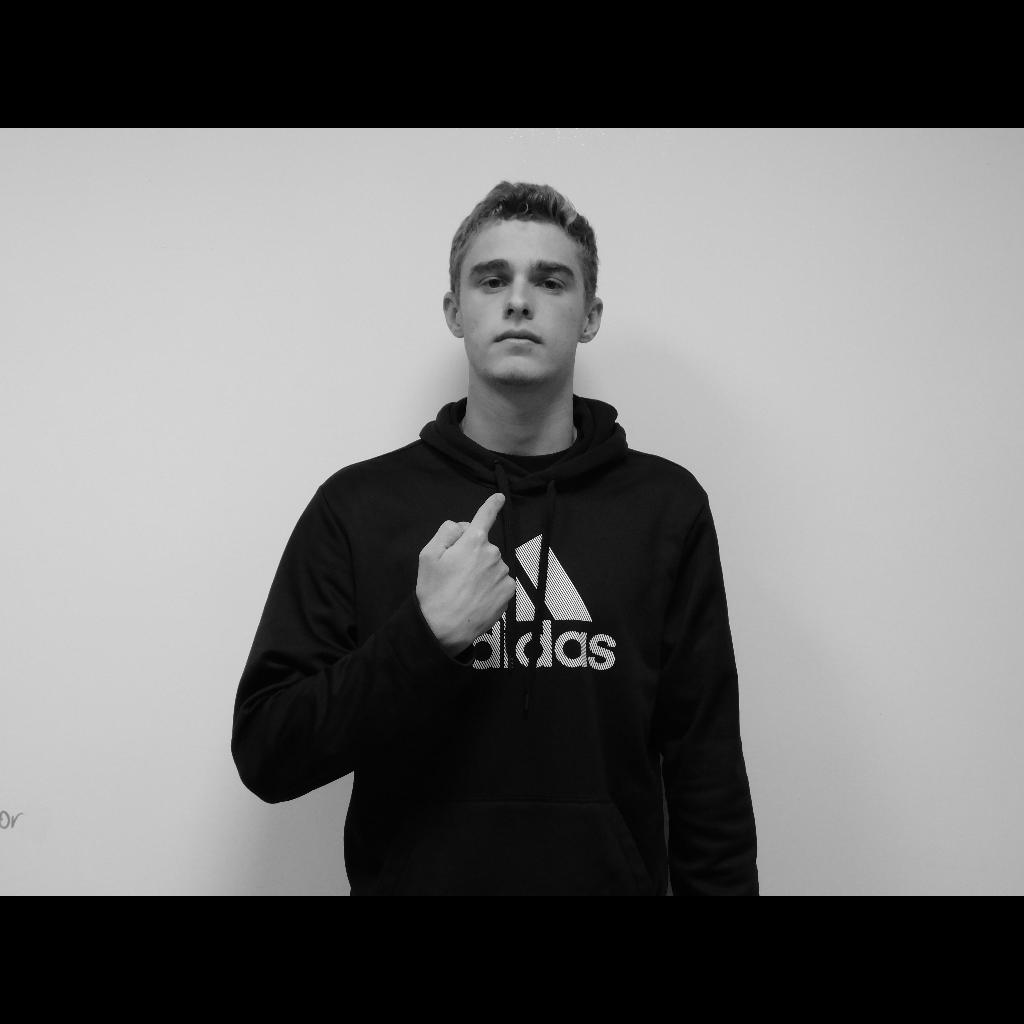I: (416, 493, 516, 643)
